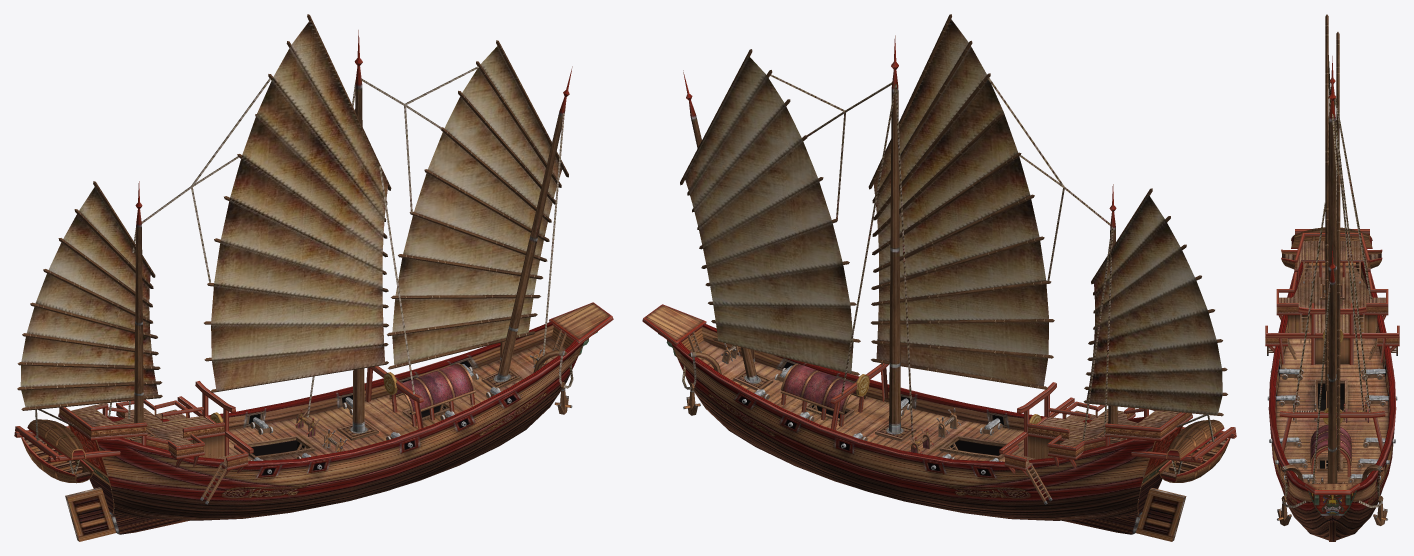
File: chinese-junk-cgtrader.gltf
3 renders of one model, left to right at view 1: azimuth 30°, elevation 25°; view 2: azimuth 150°, elevation 25°; view 3: azimuth 270°, elevation 25°, orthographic. The views are drawn at different scales.
Visible parts, largest first — view 1: Model__S29, Model__265, Model__S30, Model__S28, Model__M27, Model__Roo, Model__Rud, Model__Mas, Model__D56, Model__Fro, Model__Boa, Model__M26 (+2 smaller); view 2: Model__S29, Model__265, Model__S30, Model__S28, Model__M26, Model__Roo, Model__Rud, Model__D56, Model__Fro, Model__Boa, Model__276, Model__118 (+3 smaller); view 3: Model__265, Model__D56, Model__M26, Model__M27, Model__S29, Model__Wal, Model__S30, Model__D55, Model__Roo, Model__117, Model__B67, Model__118 (+20 smaller).
Boxes of the visible parts, bbox=[...] form: Model__S29: bbox=[204, 14, 391, 392]; Model__265: bbox=[68, 322, 583, 534]; Model__S30: bbox=[387, 40, 568, 369]; Model__S28: bbox=[17, 181, 162, 410]; Model__M27: bbox=[497, 66, 572, 380]; Model__Roo: bbox=[389, 363, 475, 414]; Model__Rud: bbox=[65, 487, 115, 541]; Model__Mas: bbox=[134, 181, 143, 423]; Model__D56: bbox=[114, 408, 224, 459]; Model__Fro: bbox=[549, 302, 613, 344]; Model__Boa: bbox=[21, 436, 93, 483]; Model__M26: bbox=[352, 30, 364, 432]; Model__S29: bbox=[868, 14, 1054, 389]; Model__265: bbox=[671, 324, 1182, 534]; Model__S30: bbox=[680, 49, 860, 375]; Model__S28: bbox=[1083, 188, 1227, 416]; Model__M26: bbox=[889, 35, 900, 433]; Model__Roo: bbox=[780, 363, 865, 414]; Model__Rud: bbox=[1135, 488, 1186, 541]; Model__D56: bbox=[1028, 409, 1137, 459]; Model__Fro: bbox=[642, 304, 706, 345]; Model__Boa: bbox=[1158, 437, 1230, 482]; Model__276: bbox=[1166, 419, 1224, 460]; Model__118: bbox=[895, 84, 913, 441]; Model__265: bbox=[1268, 262, 1396, 541]; Model__D56: bbox=[1276, 272, 1388, 332]; Model__M26: bbox=[1327, 66, 1336, 407]; Model__M27: bbox=[1327, 245, 1337, 483]; Model__S29: bbox=[1325, 14, 1328, 391]; Model__Wal: bbox=[1287, 315, 1377, 364]; Model__S30: bbox=[1337, 174, 1340, 471]; Model__D55: bbox=[1294, 241, 1370, 271]; Model__Roo: bbox=[1310, 424, 1351, 465]; Model__117: bbox=[1335, 114, 1370, 412]; Model__B67: bbox=[1266, 333, 1398, 338]; Model__118: bbox=[1336, 135, 1364, 412].
Size of the model in its own units: 28.01 by 22.22 by 6.03.
7 materials, 7 textured.
